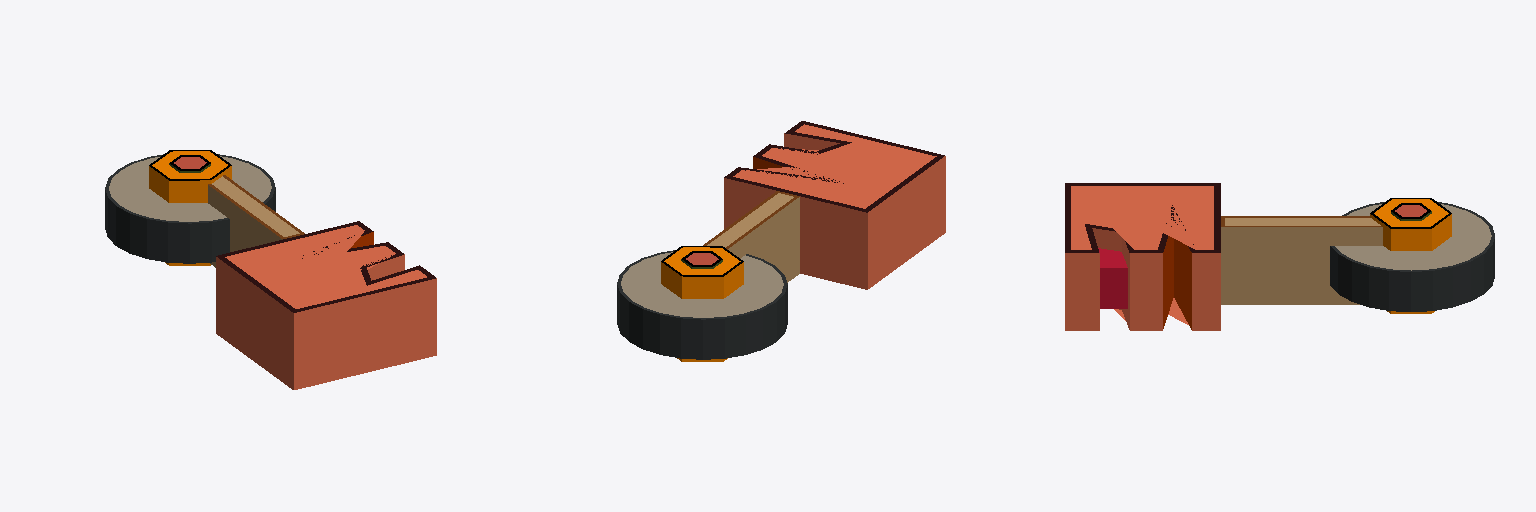
3 views of the same model, side by side, from view 1: azimuth 30°, elevation 25°; view 2: azimuth 150°, elevation 25°; view 3: azimuth 270°, elevation 25° (orthographic).
Parts seen in each view (by area): view 1: Mesh2 Group1 Model, Mesh1 Group1 Model; view 2: Mesh2 Group1 Model, Mesh1 Group1 Model; view 3: Mesh2 Group1 Model, Mesh1 Group1 Model.
Part boxes in pixels (x1,y1,x2,y2): Mesh2 Group1 Model: (208, 175, 436, 389); Mesh1 Group1 Model: (105, 150, 275, 265); Mesh2 Group1 Model: (703, 121, 945, 289); Mesh1 Group1 Model: (617, 246, 787, 361); Mesh2 Group1 Model: (1065, 183, 1382, 330); Mesh1 Group1 Model: (1330, 198, 1494, 313).
Bounding box in the file's own units: 2.04 × 1.18 × 5.12.
13 materials, 8 textured.